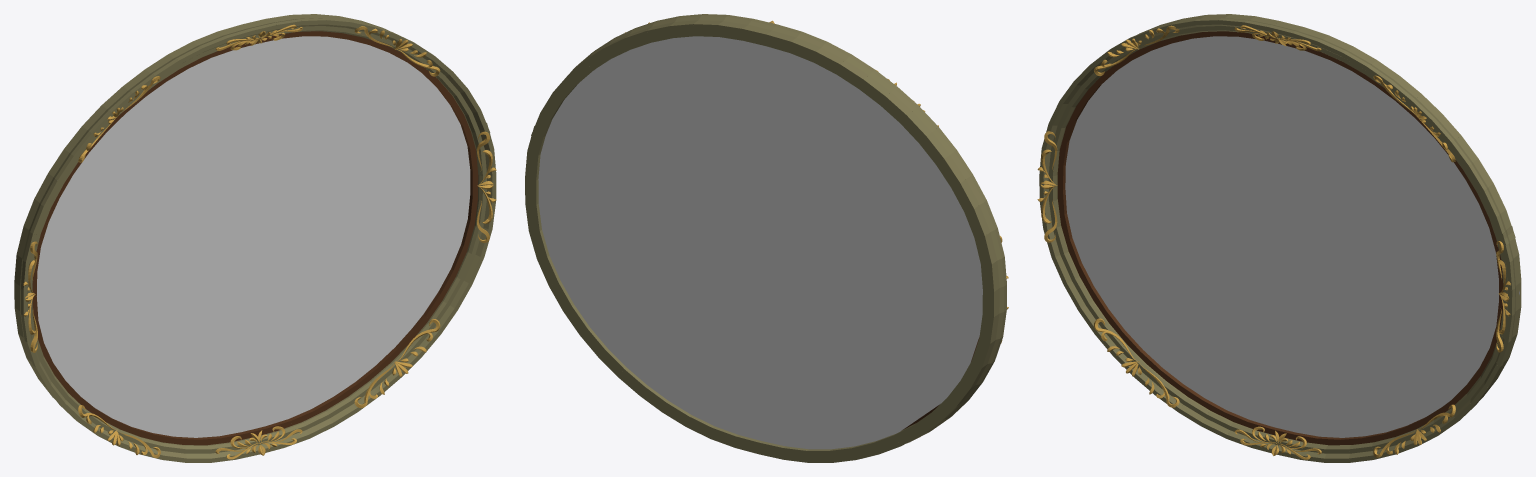
File: frame002_s.glb
3 views of the same model, side by side, from view 1: azimuth 30°, elevation 25°; view 2: azimuth 150°, elevation 25°; view 3: azimuth 330°, elevation 25° (orthographic).
Parts seen in each view (by area): view 1: canvas_平面, frame_Cube.003, frame_inner_Cube.001, moyou022, moyou021_Lines.001, Lines; view 2: canvas_平面, frame_Cube.003; view 3: canvas_平面, frame_Cube.003, frame_inner_Cube.001, moyou022, moyou021_Lines.001, Lines.
Part boxes in pixels (box(x1,y1,x2,y2)): canvas_平面: box(37, 36, 470, 437); frame_Cube.003: box(14, 14, 496, 462); frame_inner_Cube.001: box(32, 31, 478, 445); moyou022: box(78, 26, 440, 458); moyou021_Lines.001: box(215, 24, 302, 459); Lines: box(23, 131, 496, 352); canvas_平面: box(538, 36, 982, 449); frame_Cube.003: box(525, 14, 1006, 462); canvas_平面: box(1065, 36, 1519, 437); frame_Cube.003: box(1039, 14, 1521, 462); frame_inner_Cube.001: box(1057, 31, 1503, 445); moyou022: box(1094, 25, 1455, 457); moyou021_Lines.001: box(1234, 25, 1321, 459); Lines: box(1037, 131, 1510, 352).
Bounding box in the file's own units: 32.45 × 27.85 × 1.67.
